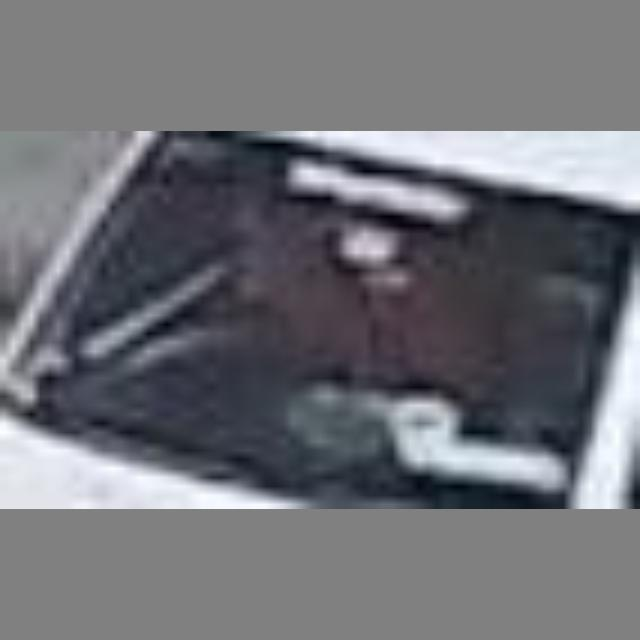tidak-pakai: (243, 194, 469, 410)
